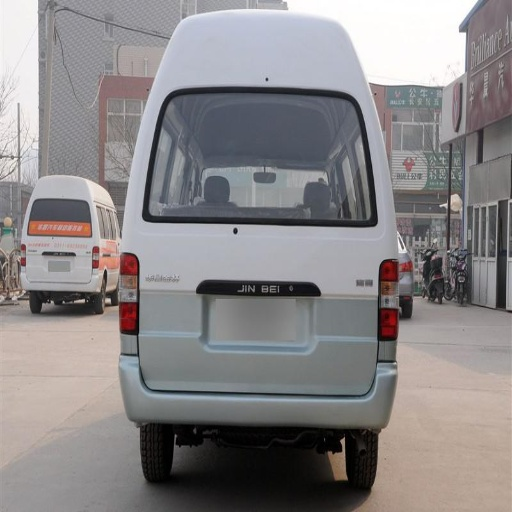back_bumper: (117, 335, 397, 430)
back_glass: (149, 112, 374, 222), (188, 21, 318, 79)
back_left_door: (299, 89, 347, 133)
trunk: (136, 224, 386, 387), (26, 216, 86, 283)
